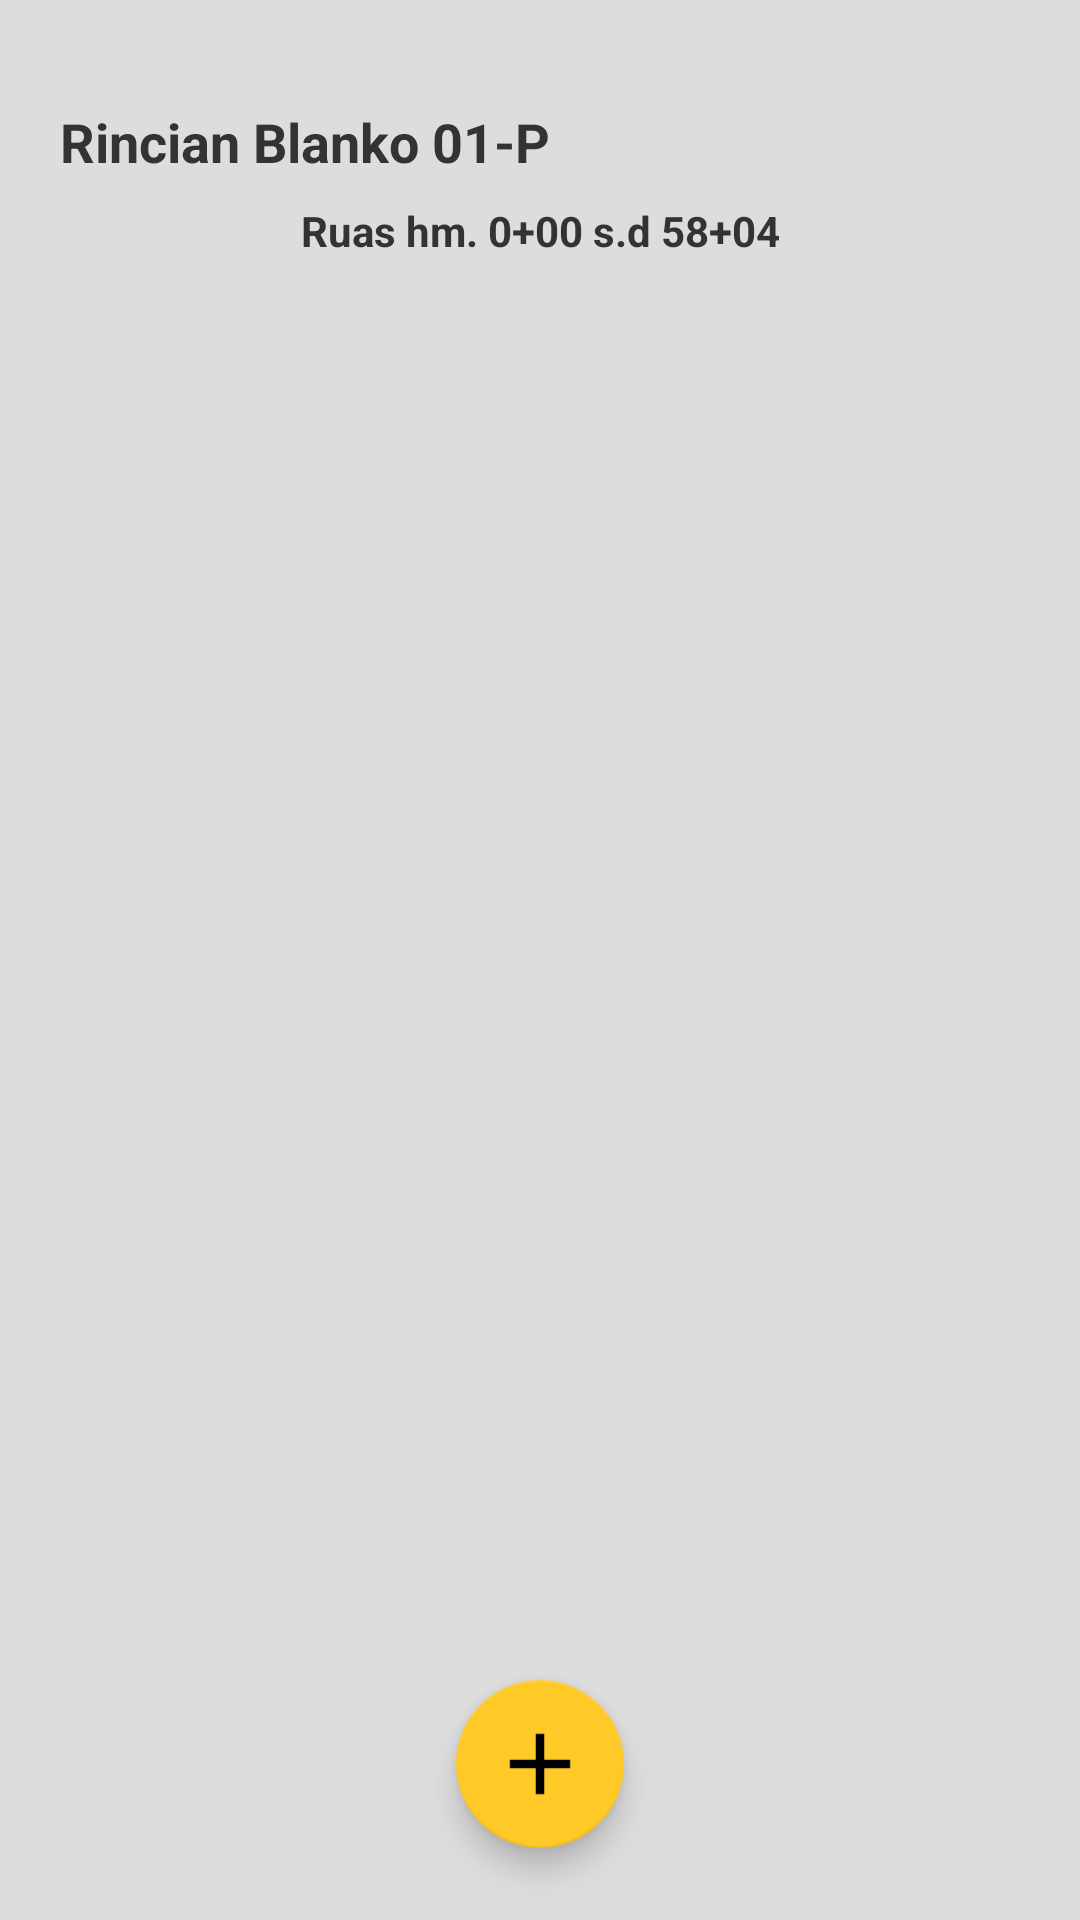

Named icons in this screenshot (1080w x 1920h) and their bounding boxes, (x1, y1, x2, y2):
add: (456, 1680, 624, 1848)
